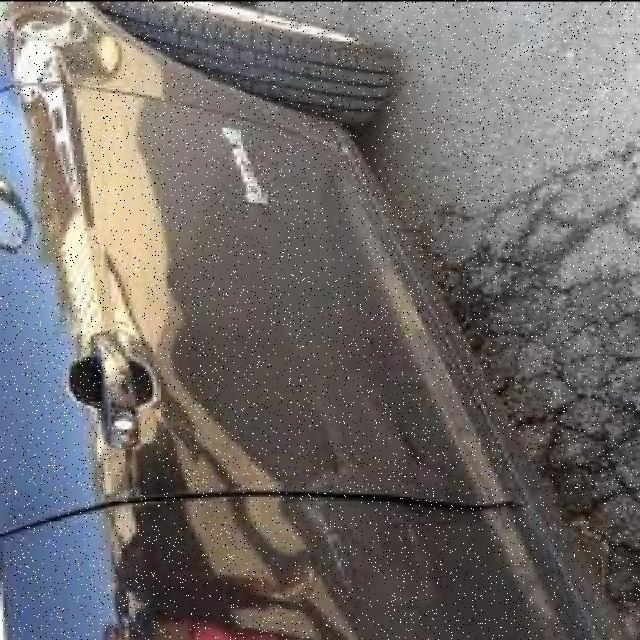damage: (283, 365, 454, 612)
